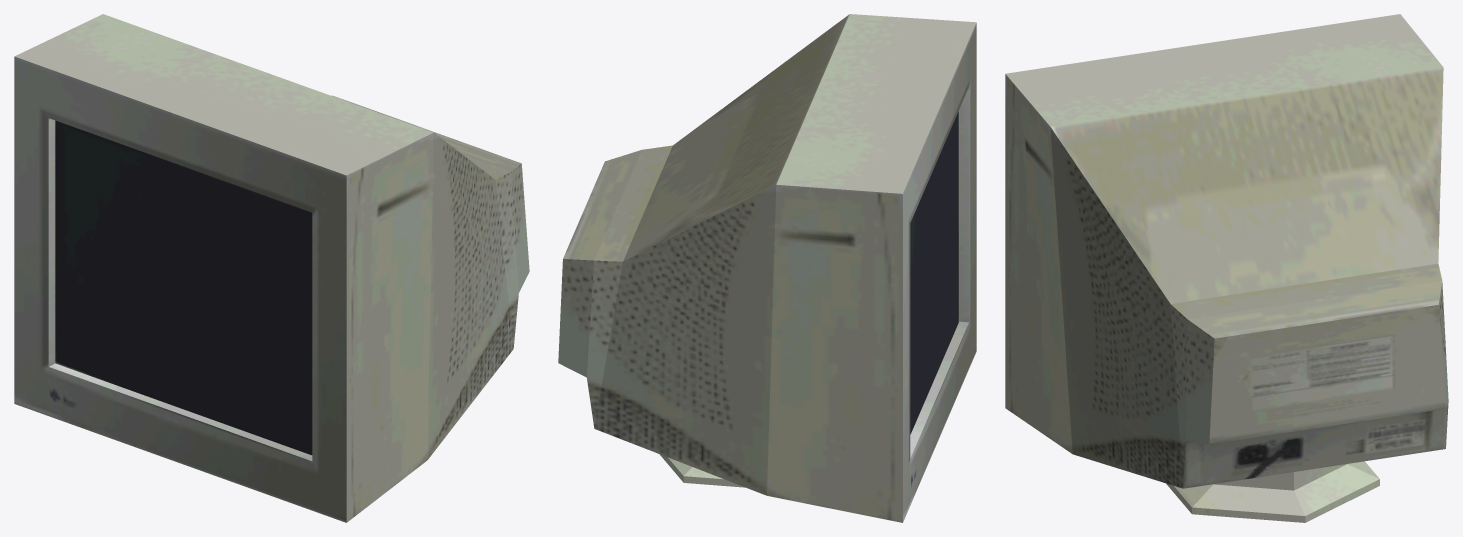
File: computer_06.fbx
The picture shows the model from 3 angles, left to right: view 1: azimuth 30°, elevation 25°; view 2: azimuth 150°, elevation 25°; view 3: azimuth 270°, elevation 25°; orthographic projection. The views are drawn at different scales.
Parts seen in each view (by area): view 1: computer_monitor5; view 2: computer_monitor5; view 3: computer_monitor5.
Boxes of the visible parts, x1=… form: computer_monitor5: x1=14, y1=14, x2=529, y2=522; computer_monitor5: x1=558, y1=14, x2=976, y2=522; computer_monitor5: x1=1005, y1=14, x2=1448, y2=522.
Size of the model in its own units: 66.42 by 56.73 by 63.62.
